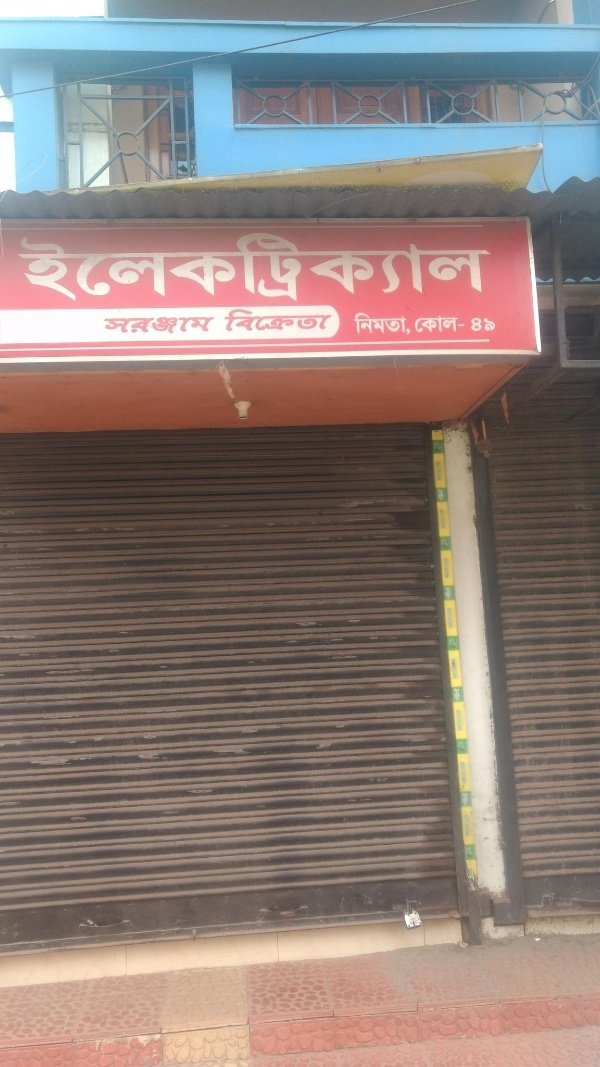text: (433, 431, 448, 914), (449, 431, 464, 914), (465, 431, 479, 914), (17, 231, 32, 307), (33, 231, 48, 307), (49, 231, 64, 307), (65, 231, 80, 307), (81, 231, 96, 307), (97, 231, 112, 307), (113, 231, 128, 307), (129, 231, 144, 307), (145, 231, 160, 307), (161, 231, 176, 307), (177, 231, 192, 307), (193, 231, 208, 307), (209, 231, 224, 307), (225, 231, 240, 307), (241, 231, 256, 307), (257, 231, 272, 307), (273, 231, 288, 307), (289, 231, 304, 307), (305, 231, 320, 307), (321, 231, 336, 307), (337, 231, 352, 307), (353, 231, 368, 307), (369, 231, 384, 307), (385, 231, 400, 307), (401, 231, 416, 307), (417, 231, 432, 307), (433, 231, 448, 307), (449, 231, 464, 307), (465, 231, 480, 307), (481, 231, 496, 307), (353, 309, 368, 340), (369, 309, 384, 340), (385, 309, 400, 340), (401, 309, 414, 340), (225, 308, 240, 333), (241, 308, 256, 333), (257, 308, 272, 333), (273, 308, 288, 333), (289, 308, 304, 333), (305, 308, 320, 333), (417, 314, 432, 336), (433, 314, 448, 336), (449, 314, 464, 336), (481, 314, 496, 335), (321, 308, 333, 333), (113, 316, 128, 334), (129, 316, 144, 334), (145, 316, 160, 334), (161, 316, 176, 334), (177, 316, 192, 334), (193, 316, 208, 334), (470, 314, 480, 335), (105, 316, 112, 334), (209, 316, 216, 334), (497, 231, 498, 307), (465, 314, 468, 336), (351, 309, 352, 340), (415, 314, 416, 336), (497, 314, 498, 335)
